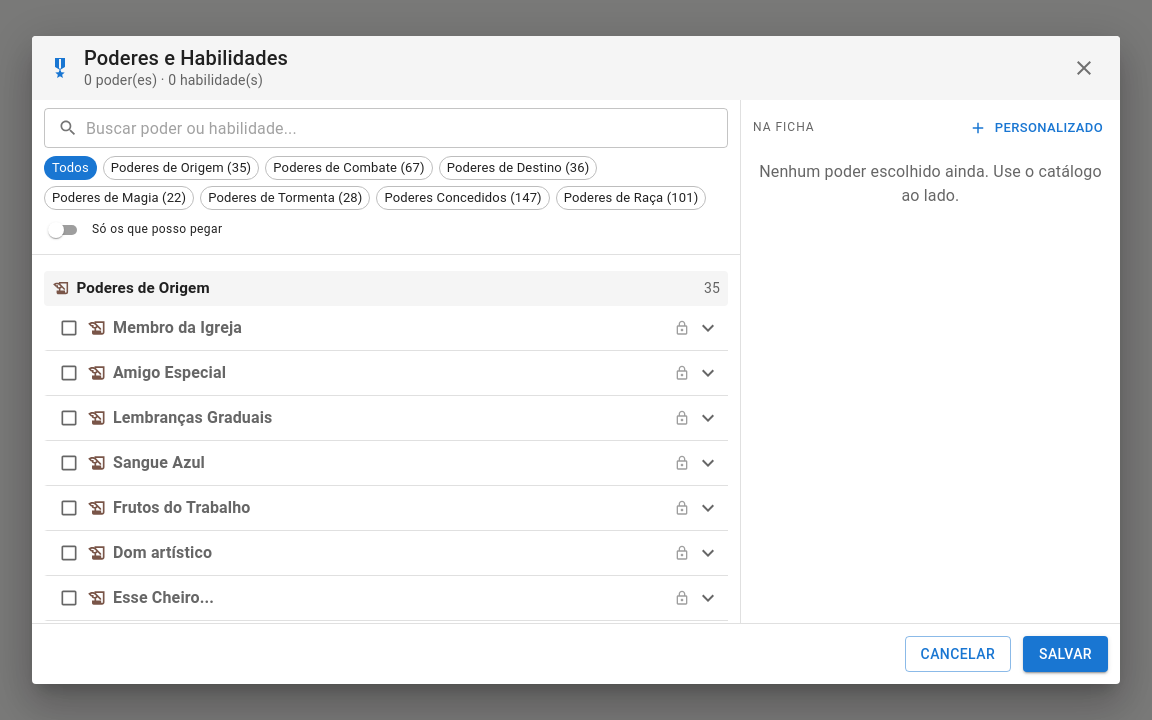
Test: PowersEditorModal › sem resultado, explica o que foi buscado em vez de ficar em branco
Type "zzzznaoexiste" into the field with placeholder "Buscar poder ou habilidade..." at (407, 128), box [86,108,728,148]
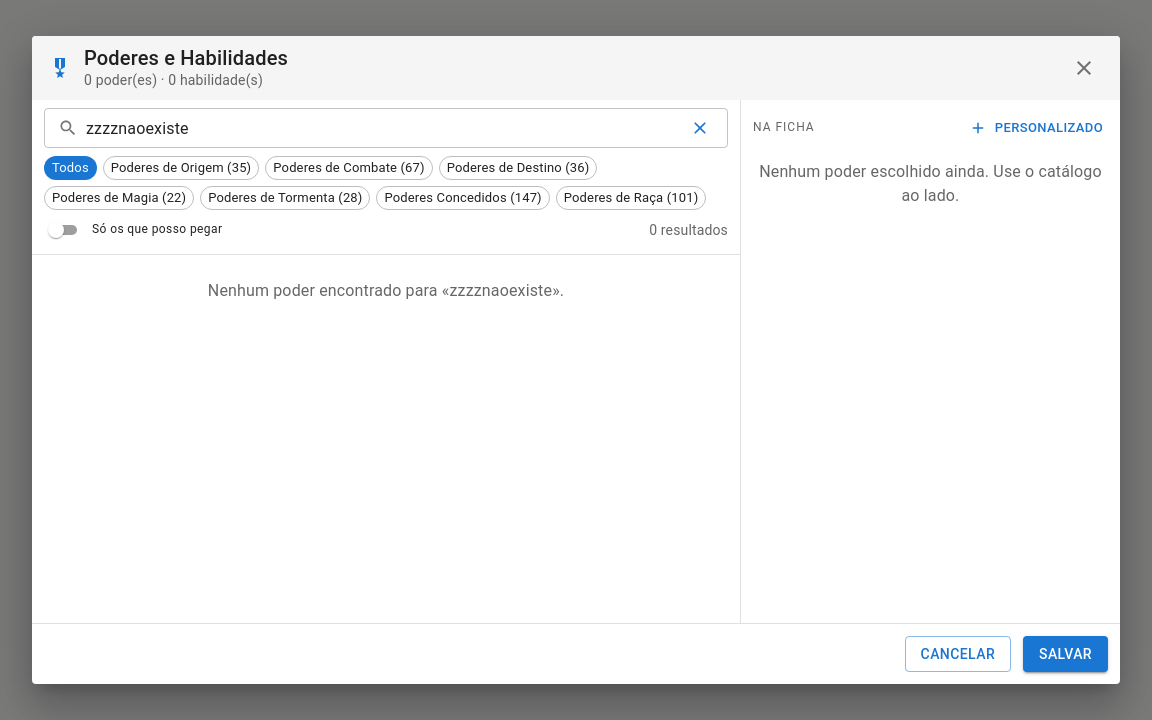
expect the text "Nenhum poder encontrado para «zzzznaoexiste»." is shown: met, box [208,281,564,300]
